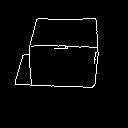cube: (14, 11, 114, 105)
